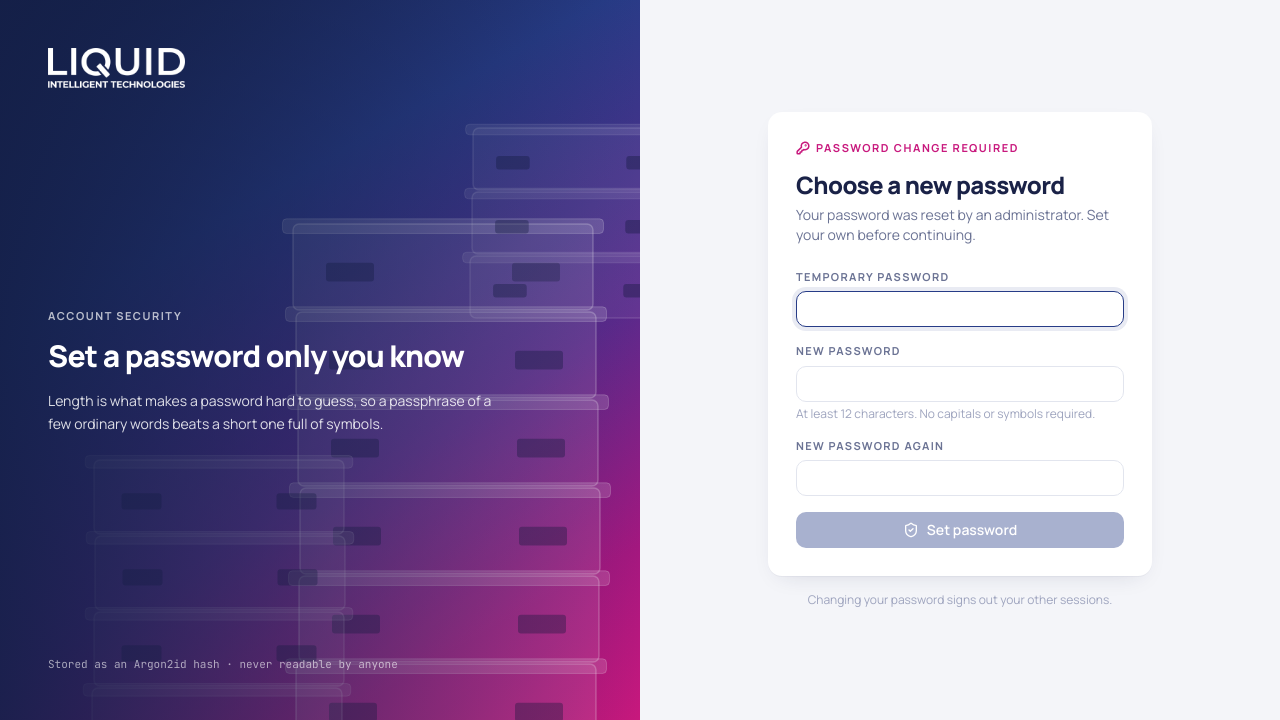
it: password change › will not submit until both entries match and are long enough
The width and height of the screenshot is (1280, 720).
Check: the button "Set password" is disabled, box [796,512,1124,548]
Type "temp1234" into the password field labelled "Temporary password" at coordinates (960, 309), box [796,291,1124,327]
Type "short" into the password field labelled "New password" at coordinates (960, 384), box [796,366,1124,402]
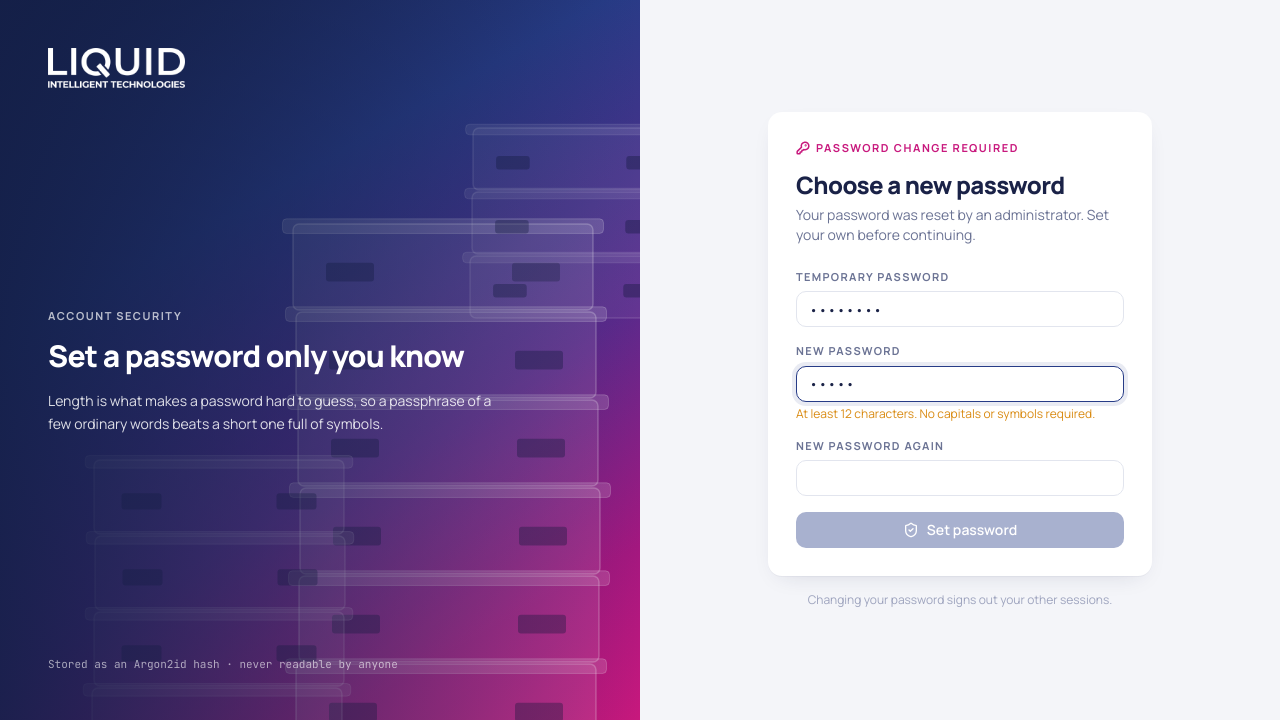
Type "short" into the password field labelled "New password again" at coordinates (960, 478), box [796,460,1124,496]
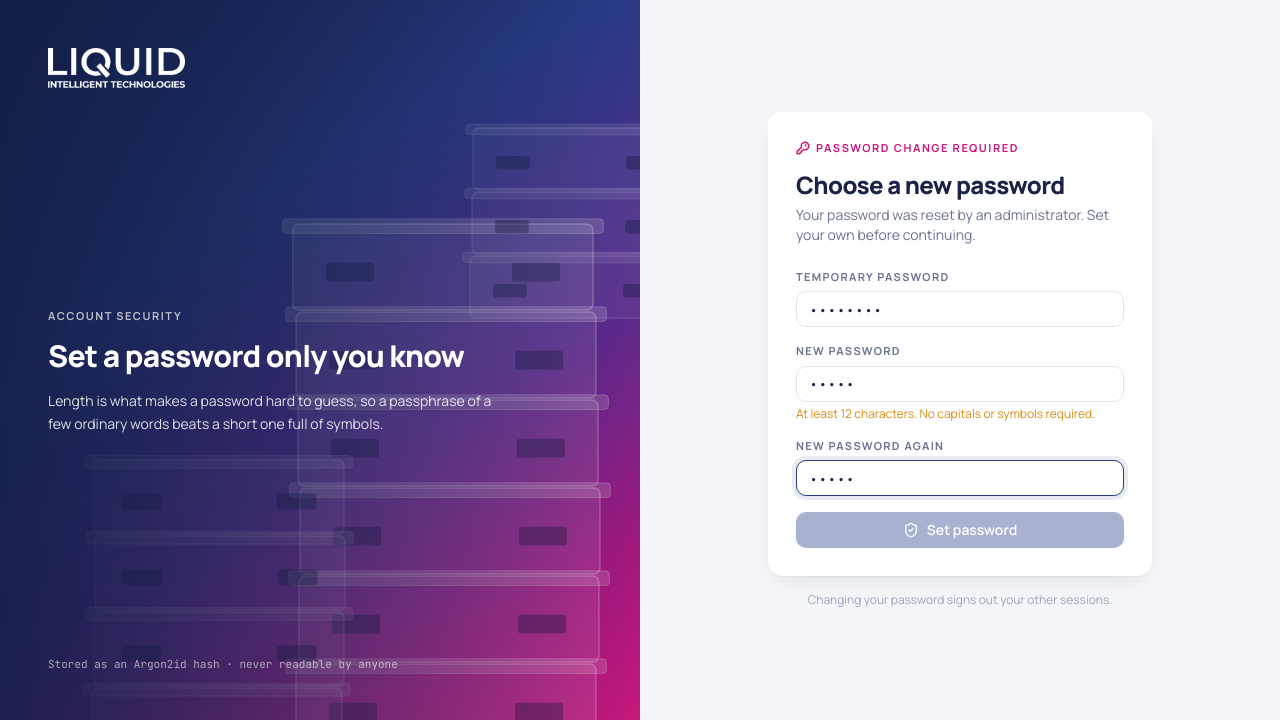
Check: the button "Set password" is disabled, box [796,512,1124,548]
Clear the password field labelled "New password" at coordinates (960, 384), box [796,366,1124,402]
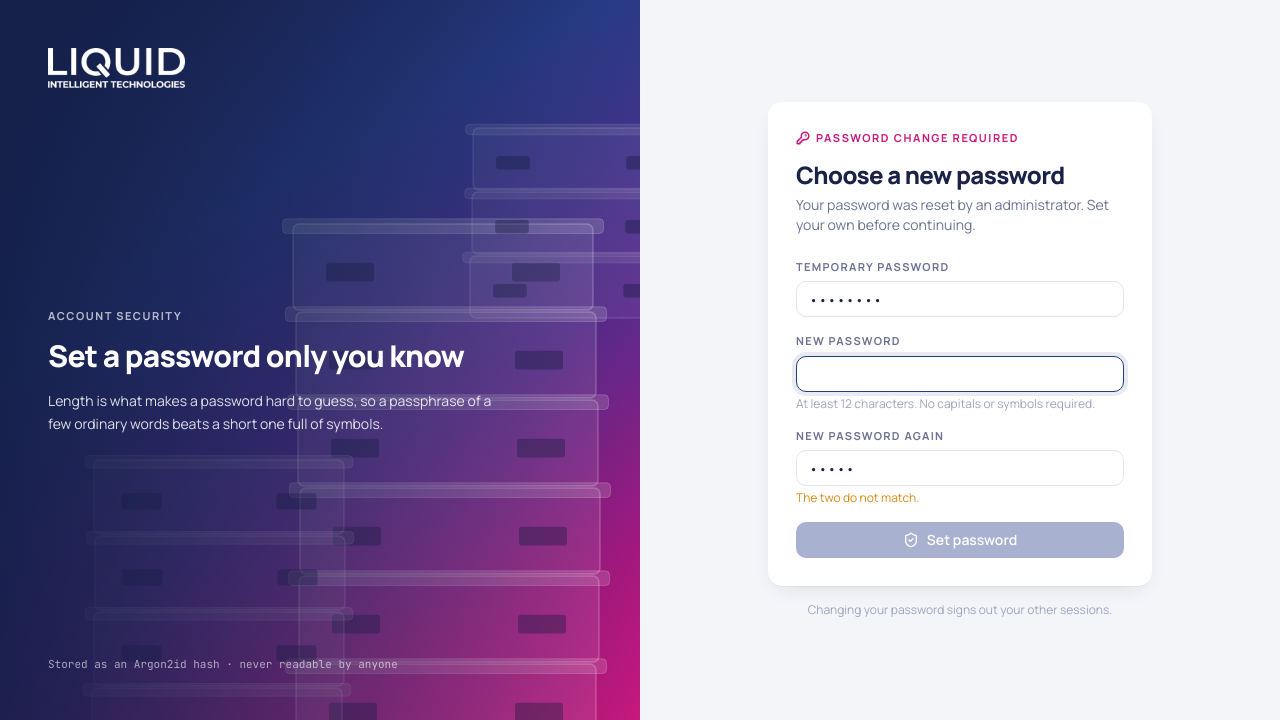
Clear the password field labelled "New password again" at coordinates (960, 468), box [796,450,1124,486]
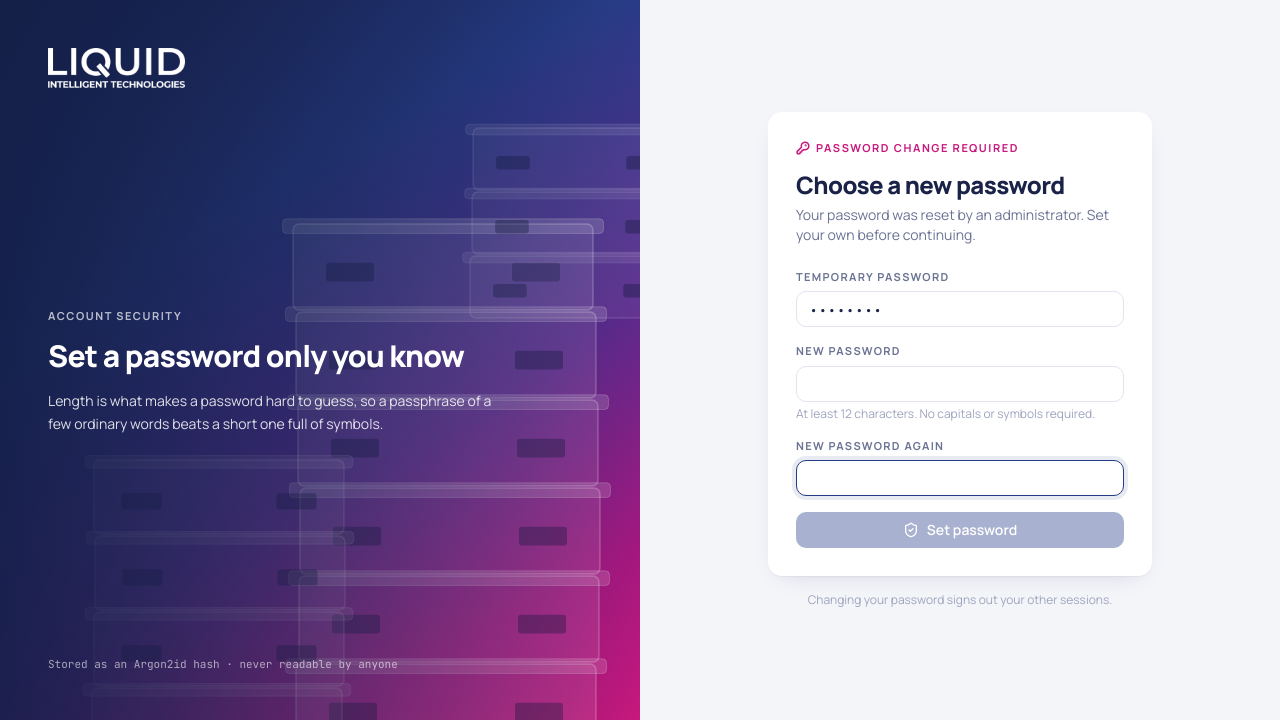
Type "a quiet loading bay" into the password field labelled "New password" at coordinates (960, 384), box [796,366,1124,402]
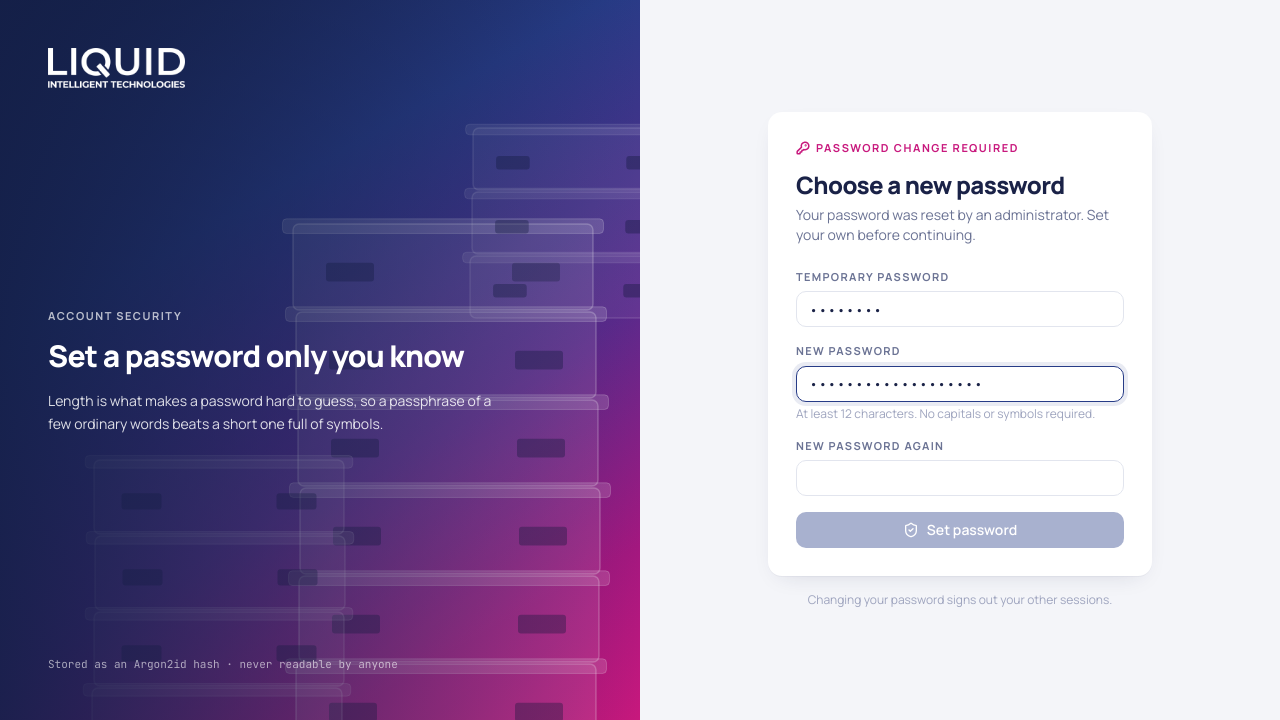
Type "a different thing" into the password field labelled "New password again" at coordinates (960, 478), box [796,460,1124,496]
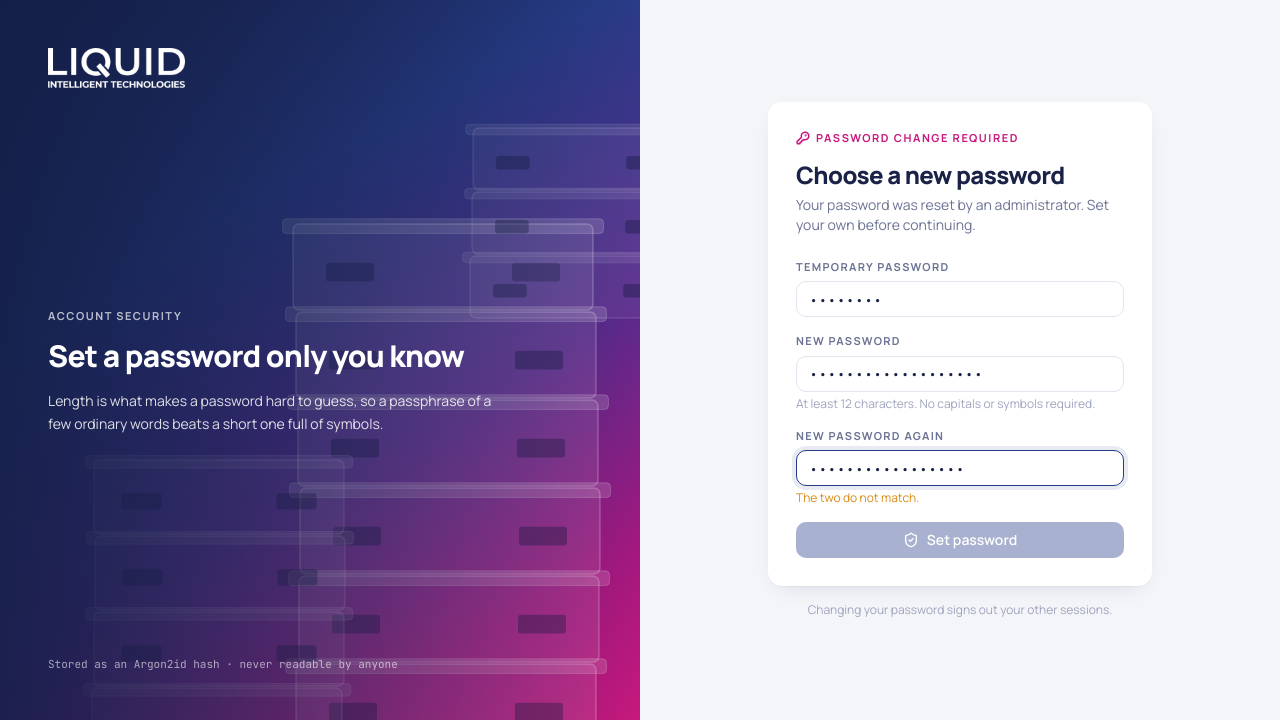
Check: the button "Set password" is disabled, box [796,522,1124,558]
Check: the text "The two do not match." is shown, box [796,489,919,506]
